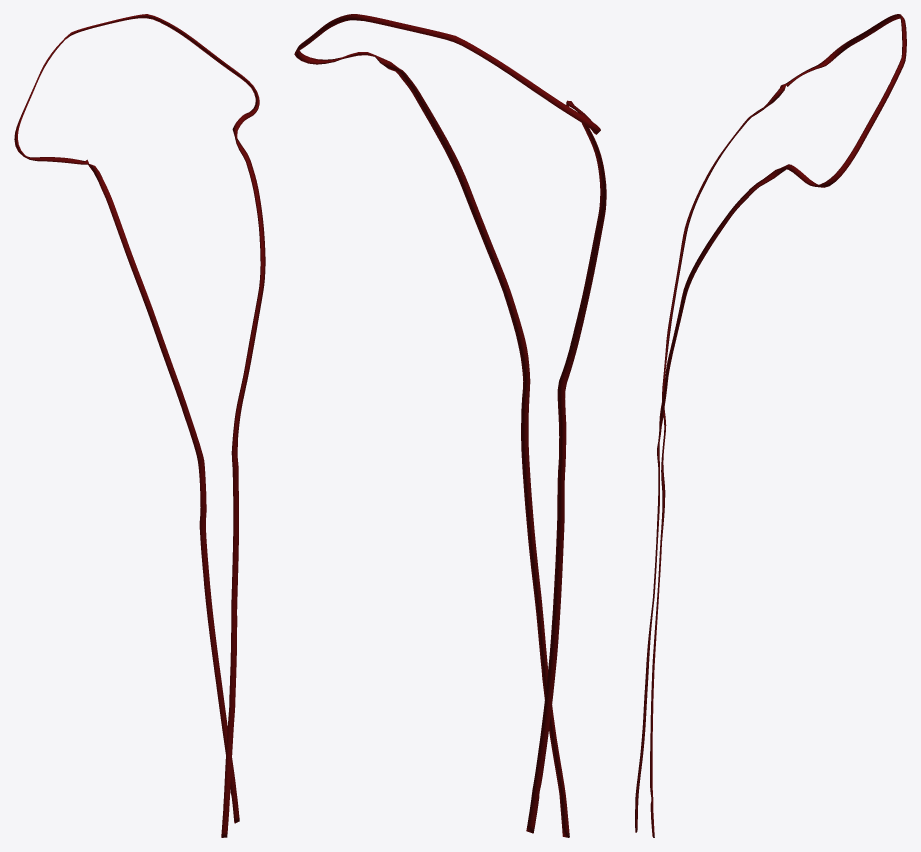
File: other-trim.glb
3 renders of one model, left to right at view 1: azimuth 30°, elevation 25°; view 2: azimuth 150°, elevation 25°; view 3: azimuth 270°, elevation 25°, orthographic. The views are drawn at different scales.
Visible parts, largest first — view 1: trim.001; view 2: trim.001; view 3: trim.001.
Boxes of the visible parts, x1,y1,x2,y2 form: trim.001: (14, 14, 265, 837); trim.001: (294, 14, 606, 837); trim.001: (635, 14, 906, 837).
Size of the model in its own units: 0.977 by 2.86 by 0.8811.
